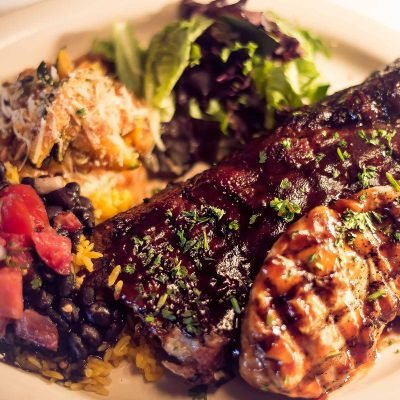curry: (90, 16, 215, 121)
